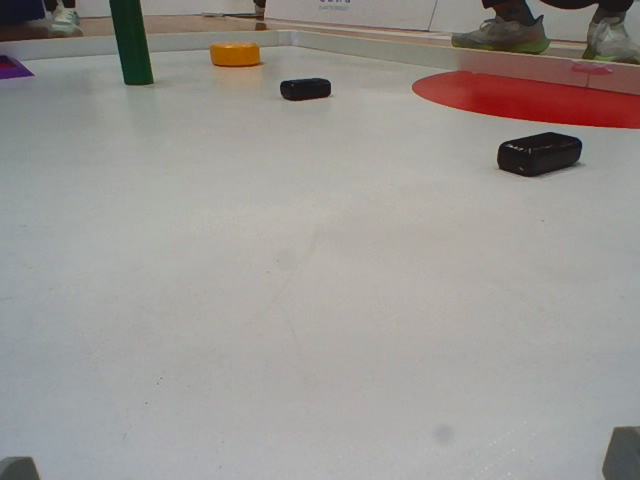black: (498, 129, 584, 178), (279, 78, 334, 102)
yellow: (206, 40, 262, 67)
zhuzi: (105, 1, 157, 86)
